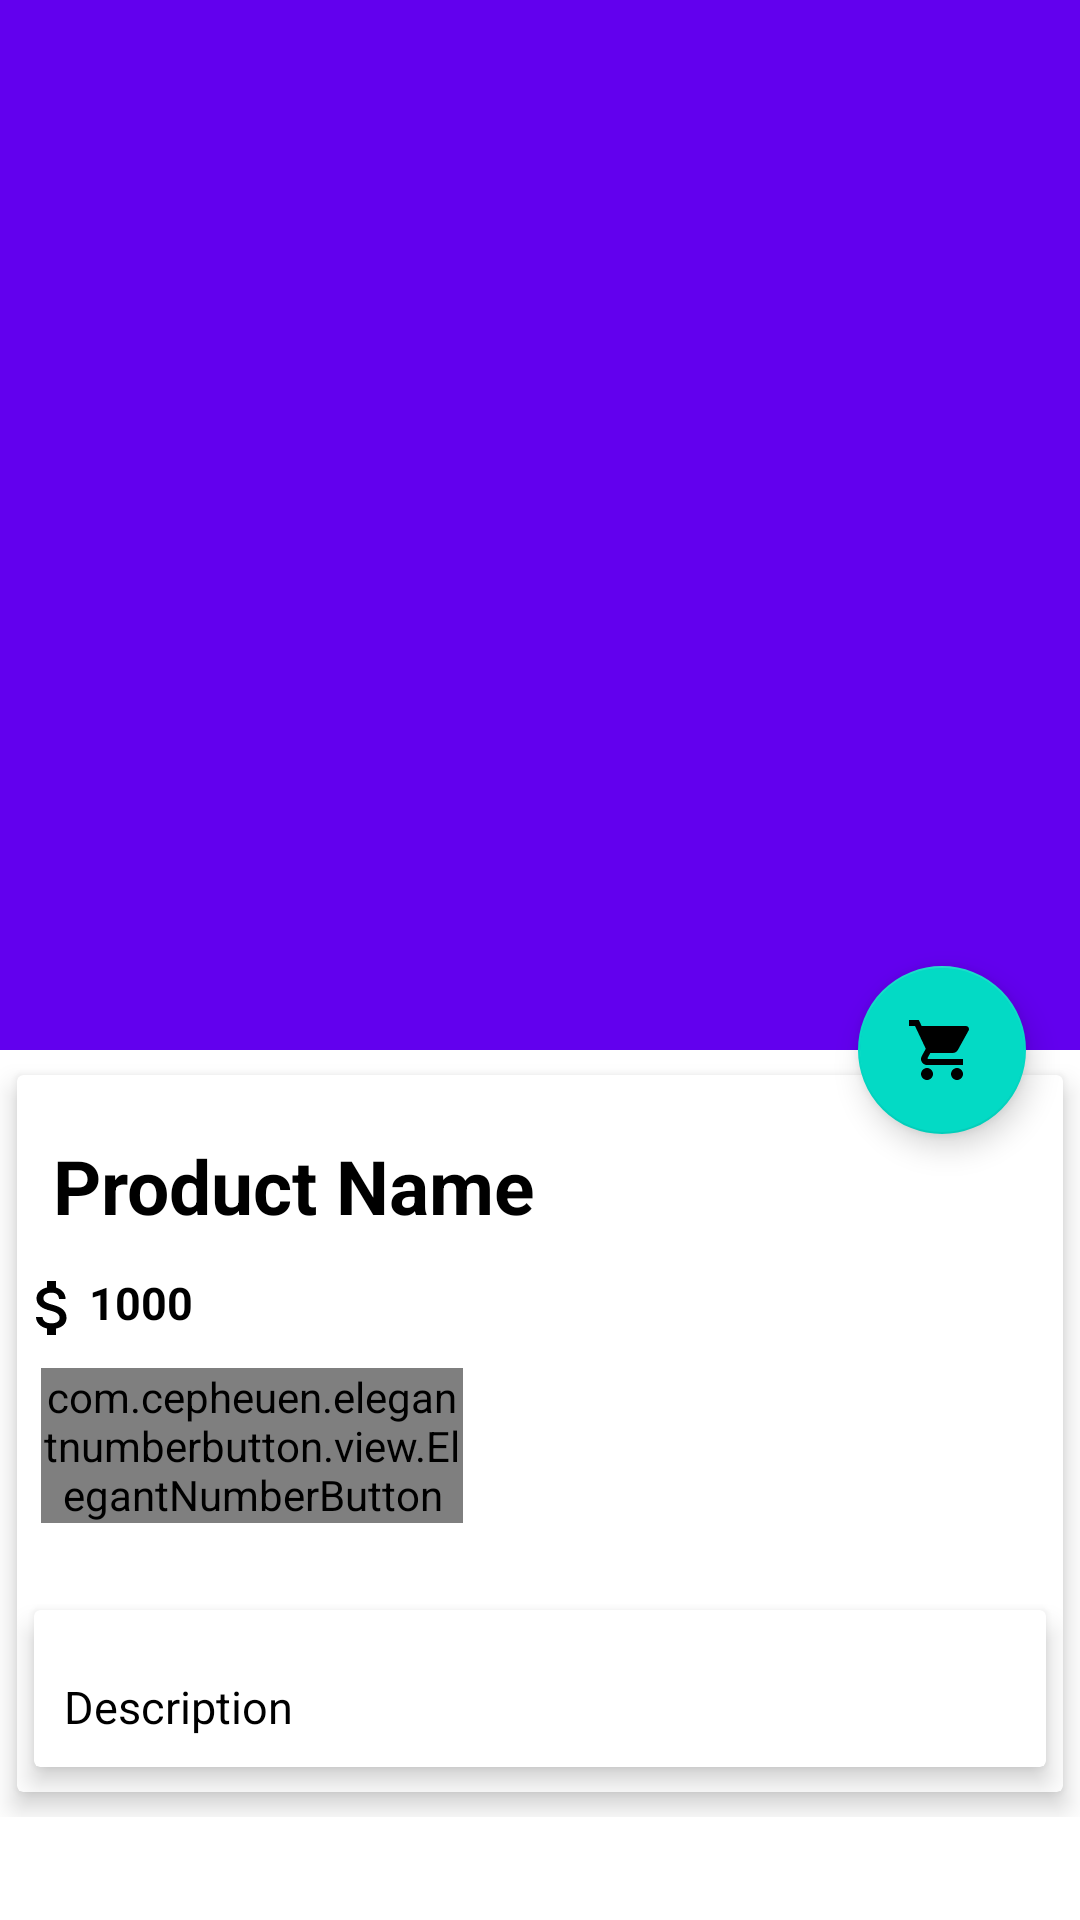

Icon bounding boxes for this 1080w x 1920h phone screenshot, format (x1, y1, x2, y2):
attach money: (36, 1281, 67, 1335)
